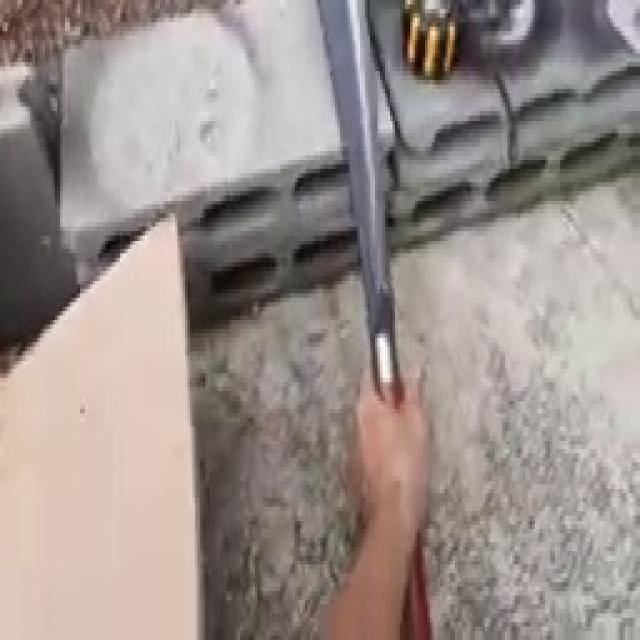eto: (321, 3, 431, 638)
